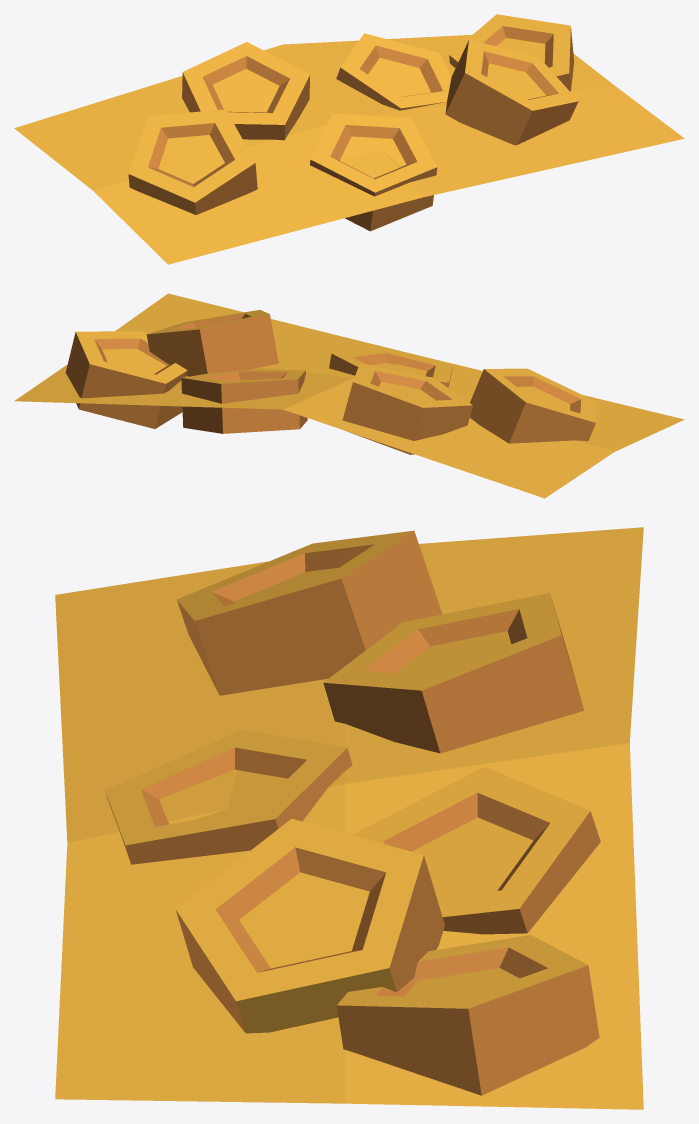
File: Mesh_Loot.fbx
3 renders of one model, top to bottom at view 1: azimuth 30°, elevation 25°; view 2: azimuth 150°, elevation 25°; view 3: azimuth 270°, elevation 25°, orthographic. The views are drawn at different scales.
Visible parts, largest first — view 1: SM_Loot; view 2: SM_Loot; view 3: SM_Loot.
Part boxes in pixels (x1,y1,x2,y2): SM_Loot: (14, 14, 684, 264); SM_Loot: (14, 293, 684, 498); SM_Loot: (55, 527, 643, 1109).
Bounding box in the file's own units: 0.9141 × 0.1888 × 0.4389.
